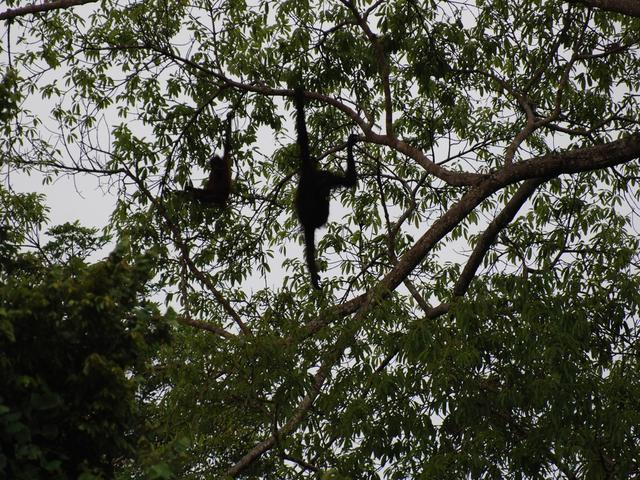monkey: (271, 45, 384, 302)
